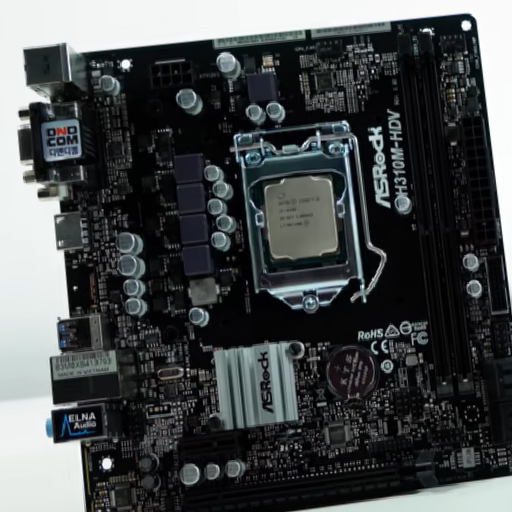CPU: (241, 147, 365, 310)
GPU: (179, 451, 441, 508)
MOTHERBOARD: (14, 14, 507, 512)
RAM: (395, 31, 477, 397)
